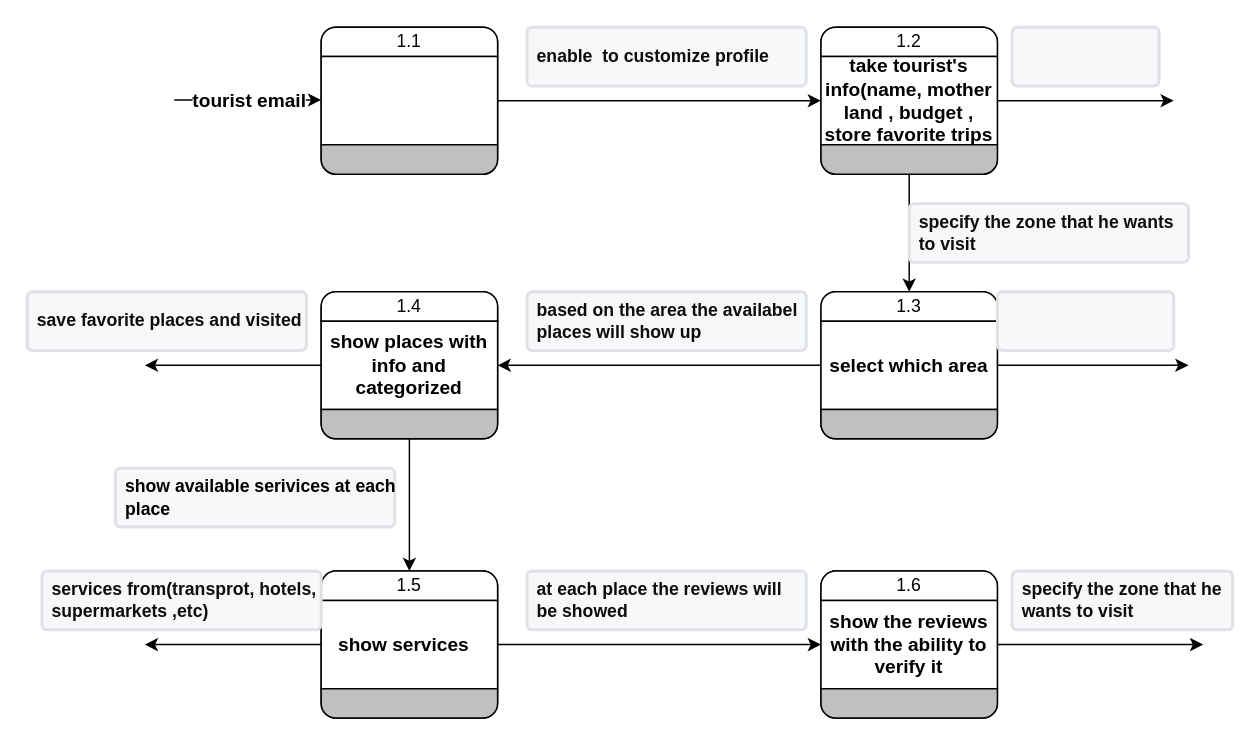
The diagram is 1258 pixels wide and 744 high, and some of its shapes have lost their labels. Here are the shapes that lost their labels. From the top down, the centre of each, then its label:
point (1085, 56): store in profile
point (409, 100): Register
point (1085, 320): store visited areas
